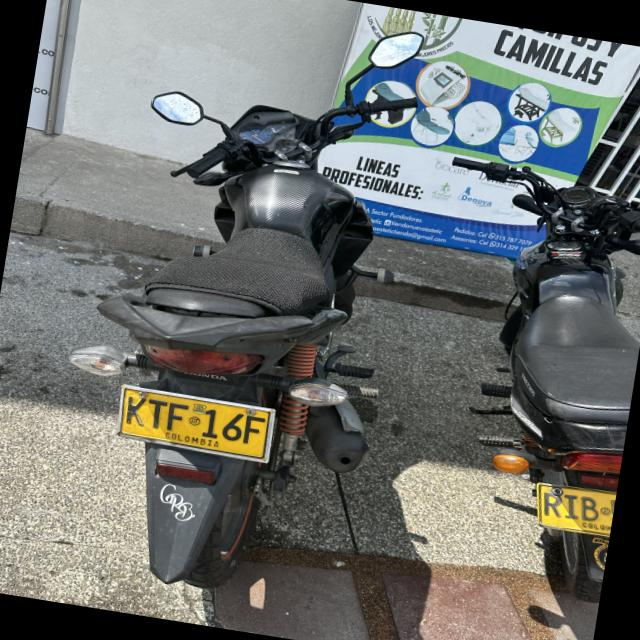number plate: (119, 385, 275, 462), (536, 483, 617, 536)
